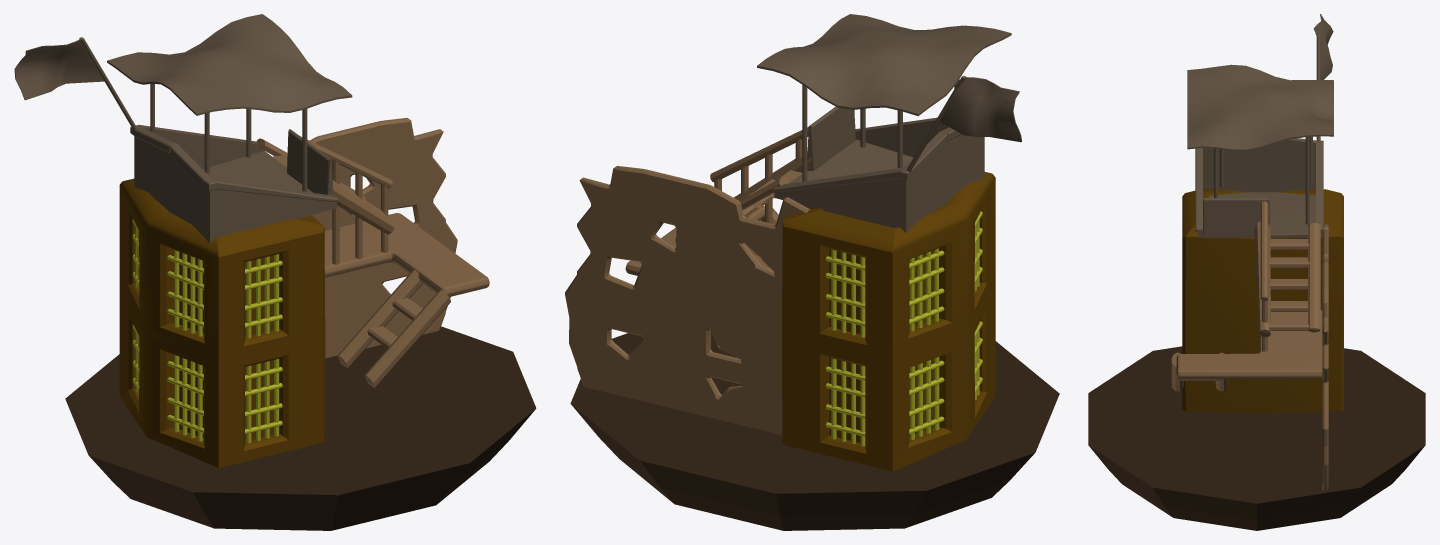
The model's file is PrisionWood.fbx.
The picture shows the model from 3 angles, left to right: view 1: azimuth 30°, elevation 25°; view 2: azimuth 150°, elevation 25°; view 3: azimuth 270°, elevation 25°; orthographic projection. The views are drawn at different scales.
Parts seen in each view (by area): view 1: polySurface13, polySurface10, polySurface11, pCylinder20, pCylinder37; view 2: pCylinder20, polySurface10, polySurface13, polySurface11, pCylinder37; view 3: polySurface13, polySurface11, polySurface10, pCylinder20.
Part boxes in pixels (box(x1,y1,x2,y2)): polySurface13: box(65, 326, 536, 530); polySurface10: box(119, 178, 325, 468); polySurface11: box(14, 14, 352, 242); pCylinder20: box(256, 117, 489, 387); pCylinder37: box(132, 219, 282, 443); pCylinder20: box(565, 127, 811, 434); polySurface10: box(782, 172, 995, 471); polySurface13: box(570, 332, 1059, 530); polySurface11: box(757, 14, 1021, 232); pCylinder37: box(826, 211, 982, 446); polySurface13: box(1088, 346, 1425, 530); polySurface11: box(1187, 14, 1333, 237); polySurface10: box(1182, 188, 1343, 413); pCylinder20: box(1171, 201, 1328, 490).
Size of the model in its own units: 9.37 by 8.64 by 7.4.
